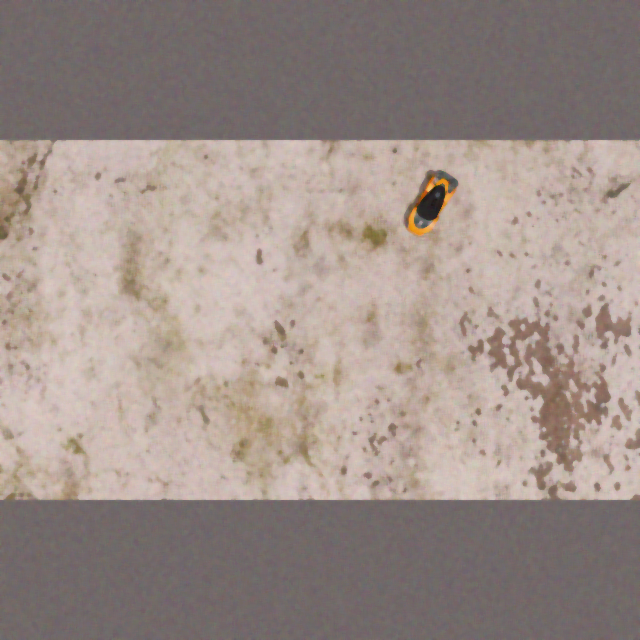car: (400, 165, 463, 241)
